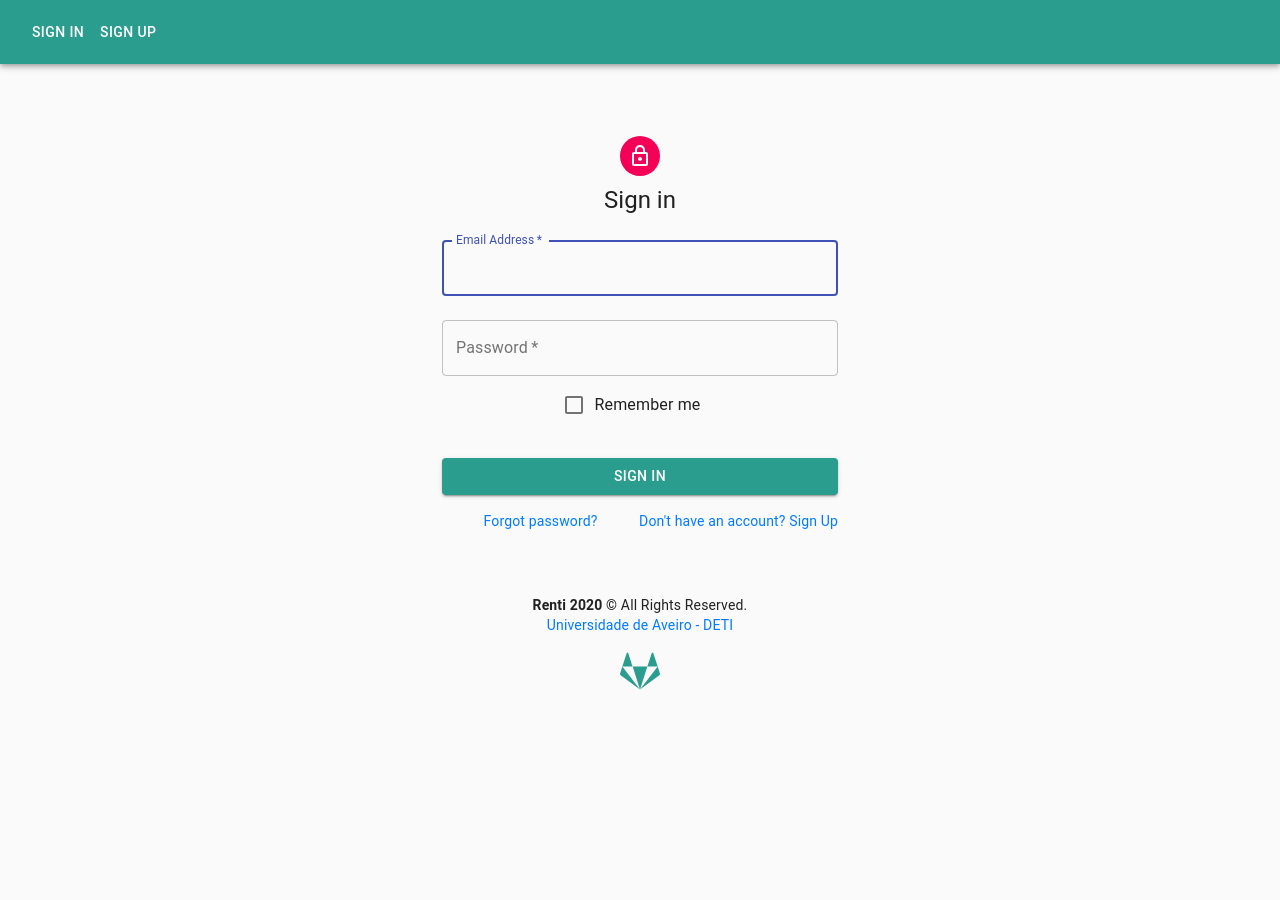
Test: Login goes to Sign Up
The width and height of the screenshot is (1280, 900).
Click the link "Don't have an account? Sign Up" at (739, 520), box [639, 512, 838, 528]
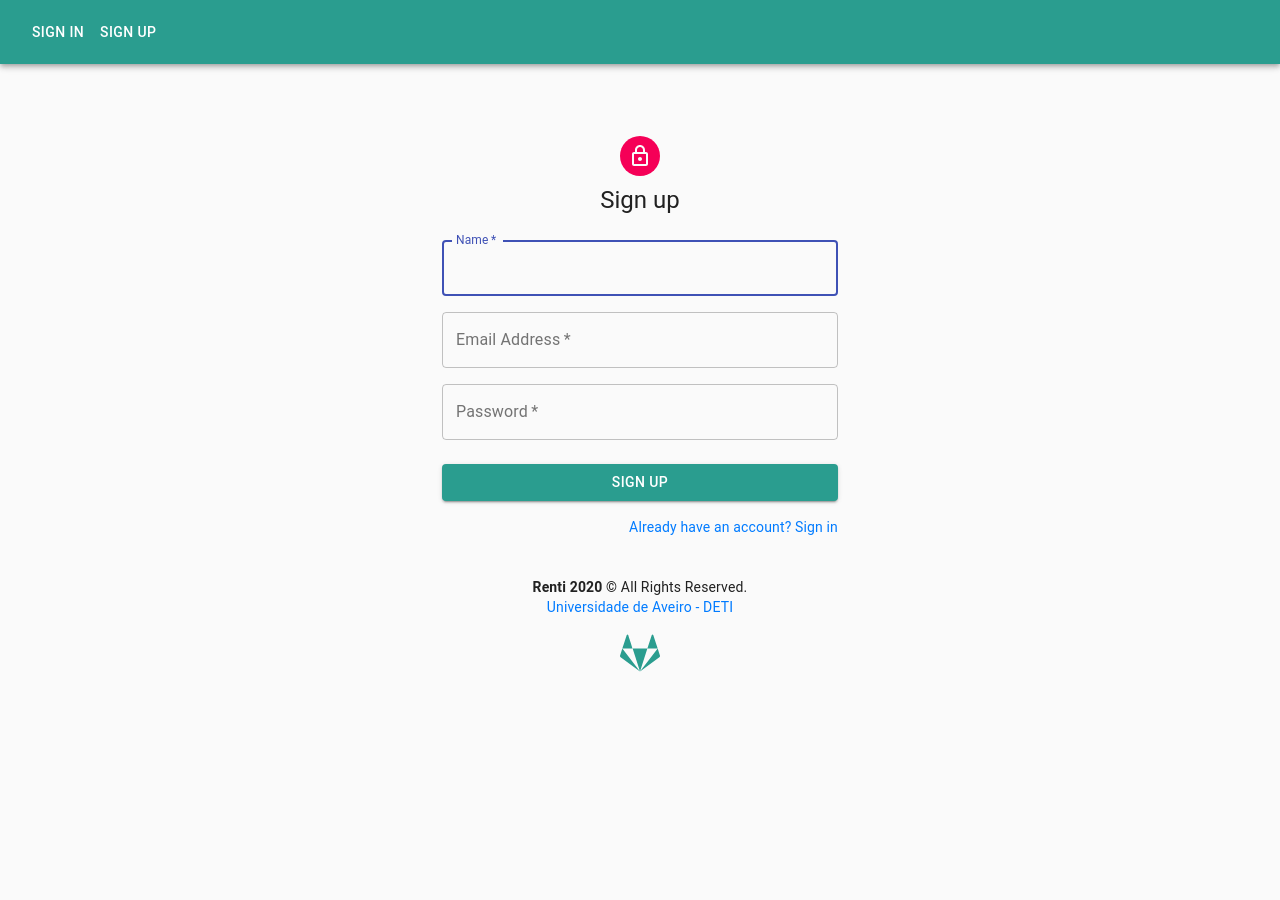
Check: the link "Already have an account? Sign in" is shown, box [629, 518, 838, 534]
